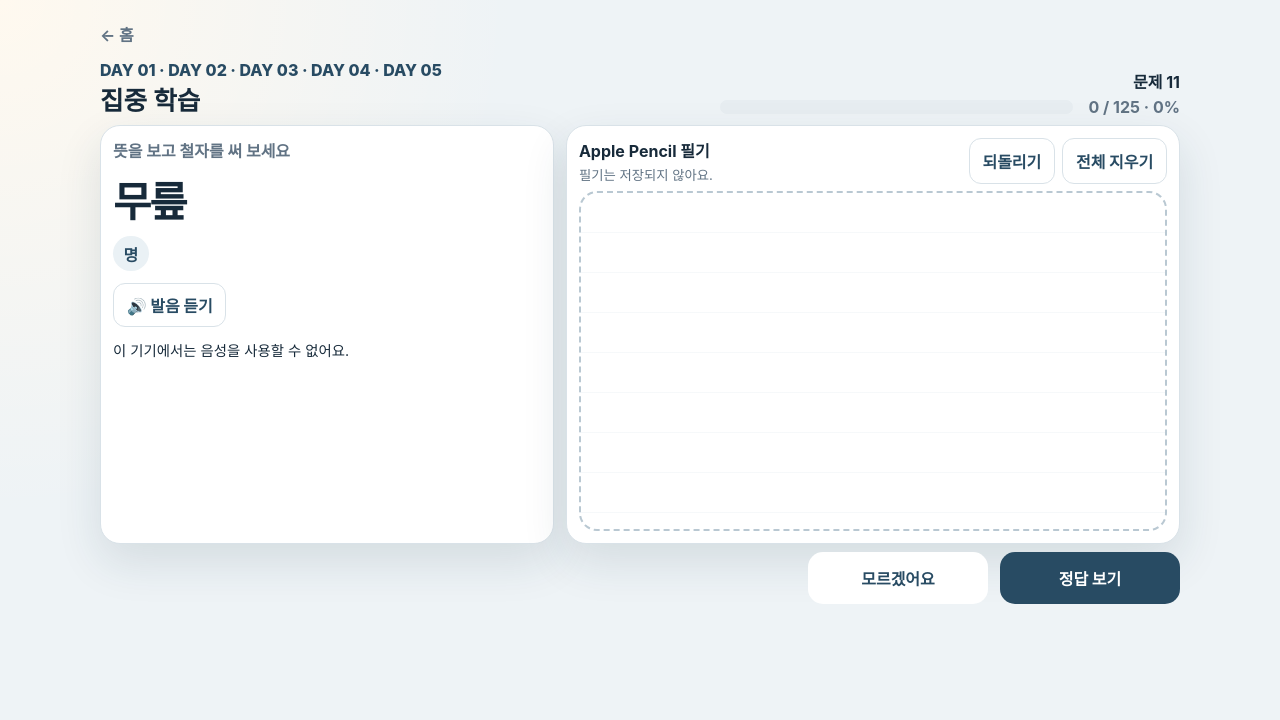
reveals pronunciation when speech is unavailable and resets it after advancing
What coordinates should you click on to do the following:
click the button "🔊 발음 듣기"
I would click on:
 (170, 305)
Its box is [113, 283, 226, 327].
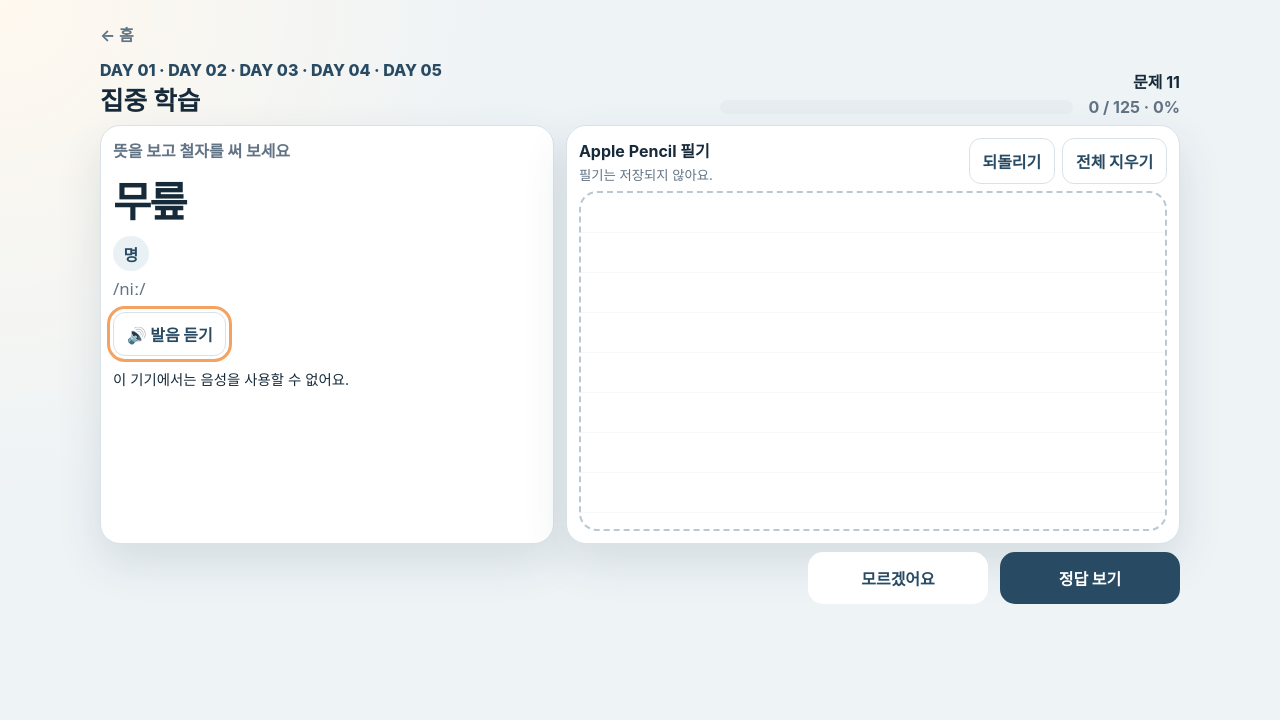
Result: the text "/niː/" is shown at [113, 276, 146, 300]
What coordinates should you click on to do the following:
click the button with class "button--secondary"
I would click on:
 (898, 578)
Its box is [808, 552, 988, 604].
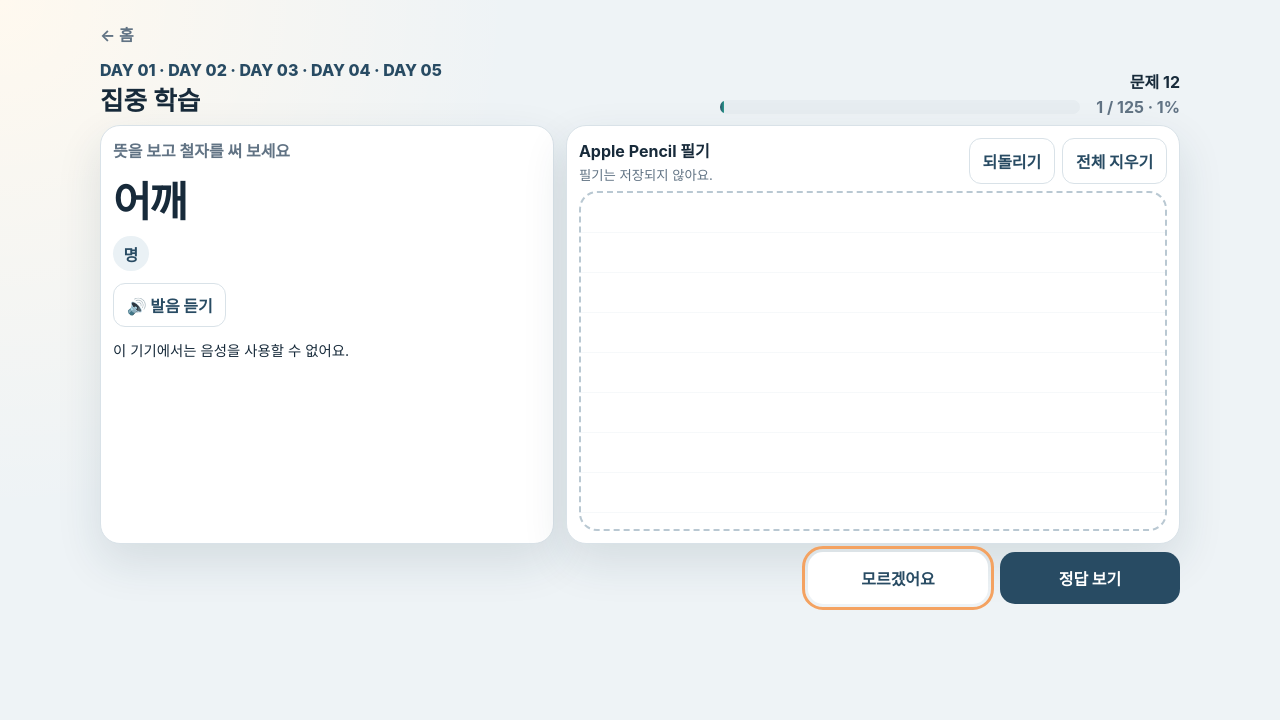
Result: the text "/niː/" is gone
